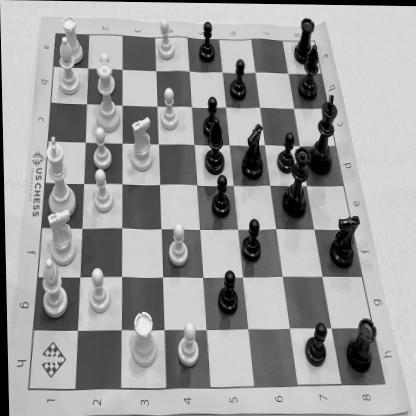black-bishop: (297, 42, 322, 101), (203, 116, 225, 176)
black-king: (306, 91, 341, 175)
black-knight: (328, 211, 360, 268), (238, 122, 266, 180)
black-pawn: (302, 320, 328, 369), (216, 266, 238, 318), (240, 216, 261, 264), (210, 173, 231, 219), (228, 56, 248, 102), (275, 130, 295, 175), (201, 94, 220, 139), (197, 19, 216, 63)
black-queen: (280, 146, 310, 219)
black-rook: (344, 314, 378, 372), (292, 15, 316, 62)
white-bishop: (40, 258, 68, 320), (56, 36, 80, 98)
white-king: (44, 134, 77, 218)
white-knight: (44, 209, 76, 266), (128, 115, 154, 174)
white-pawn: (174, 319, 198, 369), (86, 268, 110, 314), (166, 221, 188, 269), (158, 85, 180, 132), (92, 168, 114, 214), (92, 124, 112, 170), (156, 16, 176, 61), (97, 51, 115, 96)
white-queen: (92, 61, 122, 132)
white-rook: (128, 308, 158, 370), (62, 14, 84, 66)
